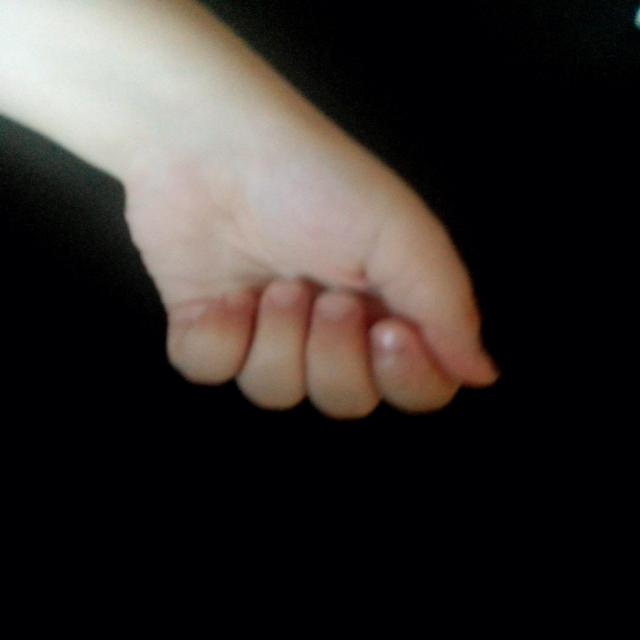Closed Hand: (106, 166, 502, 420)
